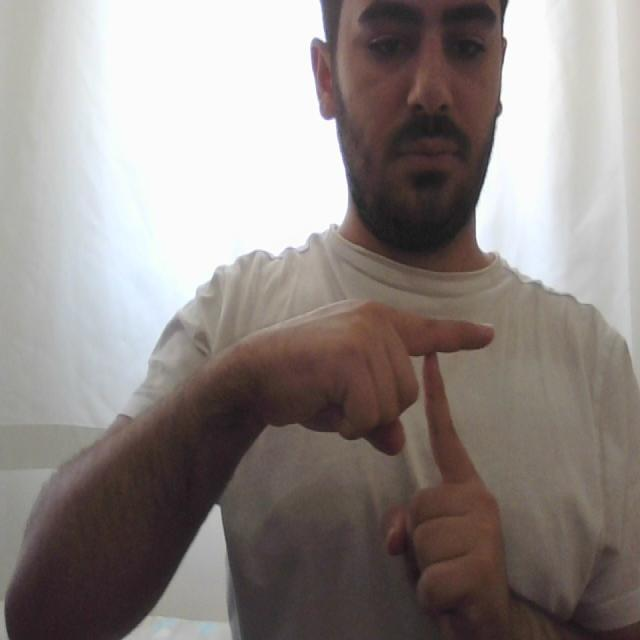Tesekkurler: (387, 289, 501, 508)
